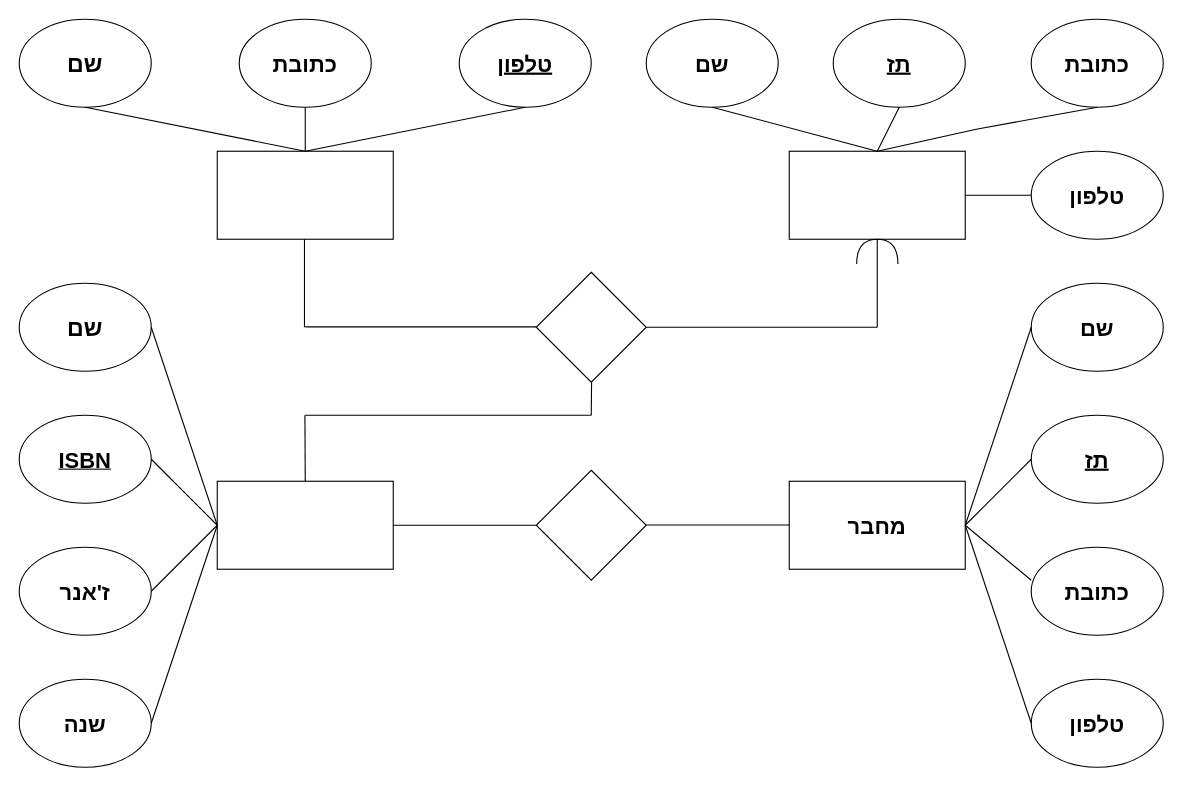
Some shapes in this 1183 by 787 pixel diagram are drawn without their labels. Each missing label, with the centre of its shape:
הוצאה לאור: (304,194)
הוציא לאור: (590,326)
כתב את: (590,524)
מאייר: (876,194)
ספר: (304,524)
